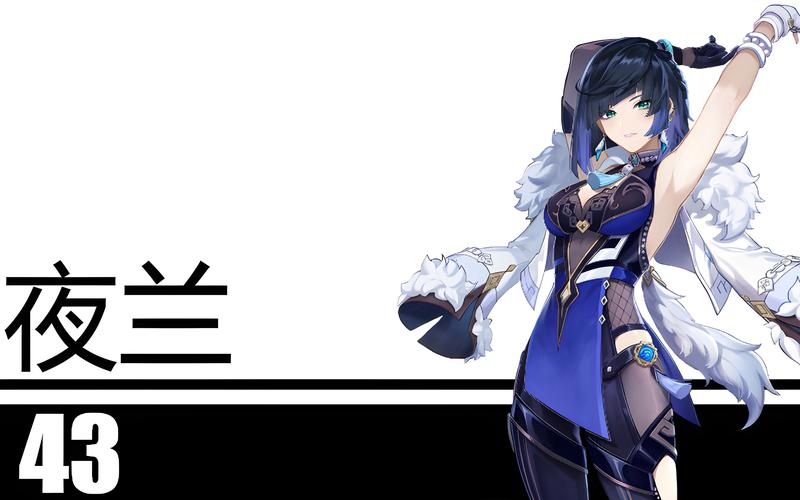夜兰: (504, 4, 800, 500)
